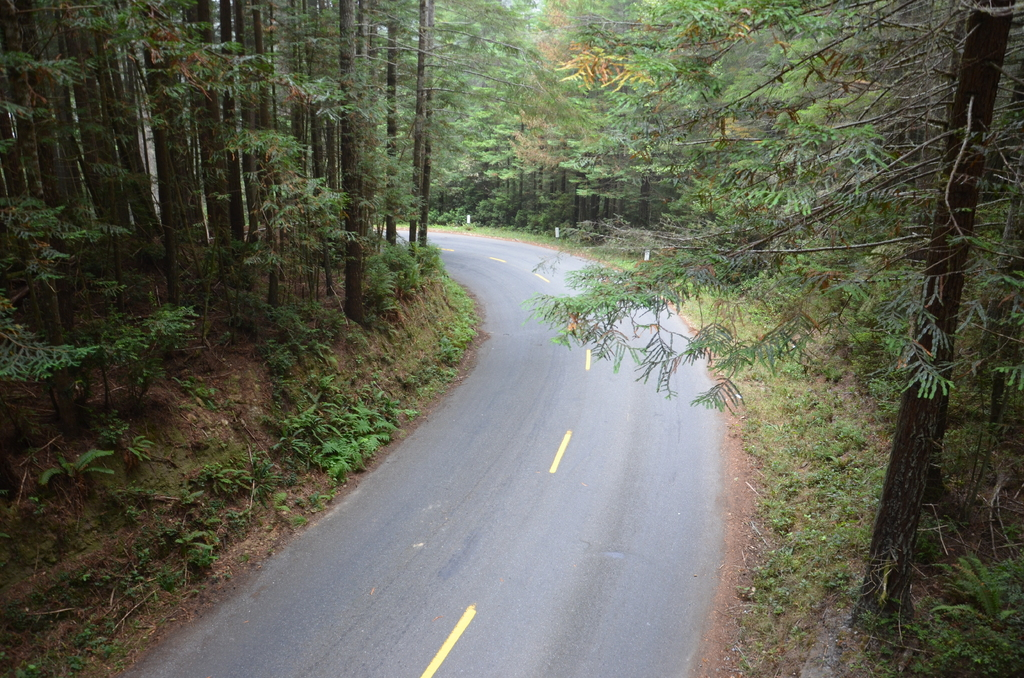Tree: (0, 0, 1023, 632)
